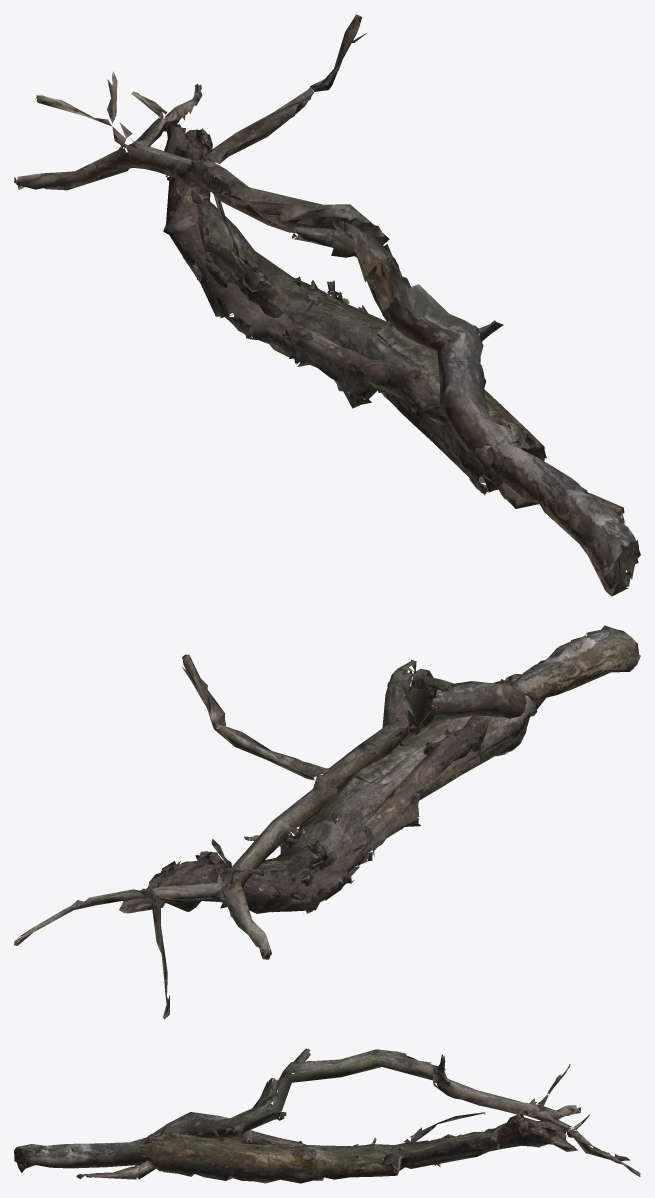
The model's file is branches.glb.
3 views of the same model, one above another, from view 1: azimuth 30°, elevation 25°; view 2: azimuth 150°, elevation 25°; view 3: azimuth 270°, elevation 25° (orthographic). The views are drawn at different scales.
Visible parts, largest first — view 1: branch_a, branch_c, branch_b; view 2: branch_a, branch_b, branch_c; view 3: branch_a, branch_c, branch_b.
Boxes of the visible parts, x1,y1,x2,y2 form: branch_a: (14,14,640,596); branch_c: (191,189,546,494); branch_b: (163,124,625,523); branch_a: (14,625,640,1019); branch_b: (119,674,521,913); branch_c: (224,679,537,899); branch_a: (14,1048,640,1176); branch_c: (139,1112,515,1183); branch_b: (76,1113,578,1179).
Bounding box in the file's own units: 0.3202 × 0.3399 × 1.3.
1 material, 1 textured.
